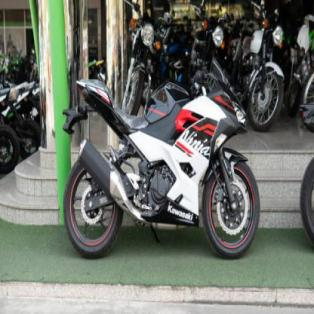Motocicleta: (63, 43, 259, 260)
